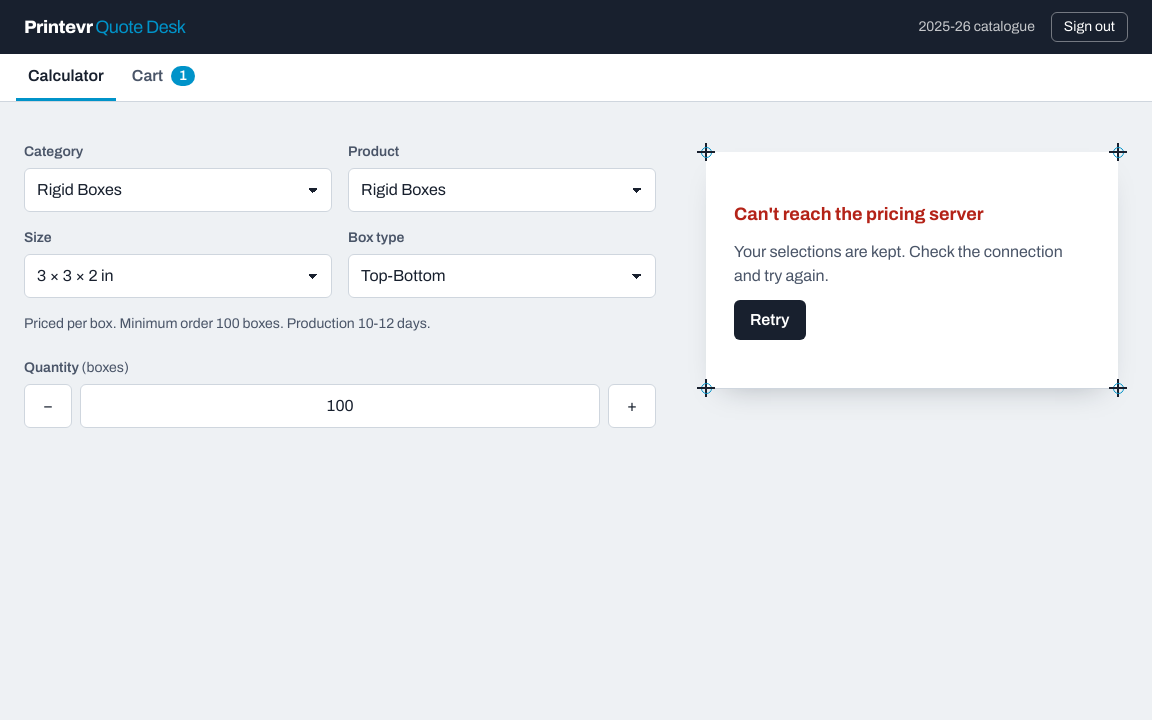
Test case: customer details in browser storage › a page opened after the retention period starts without them
Step 1. Click the button "Cart 1" → (164, 78), box [120,54,207,101]
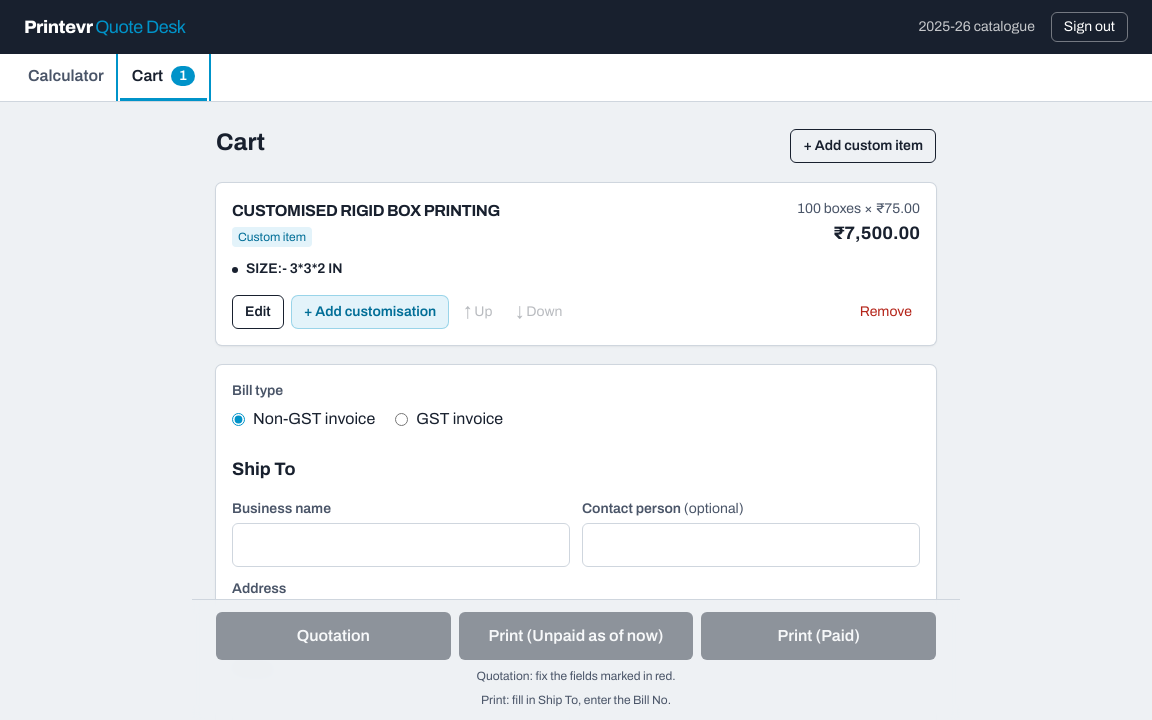
Check: the field labelled "Business name" is empty, box [232,523,570,567]
Check: the heading "Cart" is shown, box [216,126,265,158]
Check: the heading "CUSTOMISED RIGID BOX PRINTING" is shown, box [232,202,500,219]
